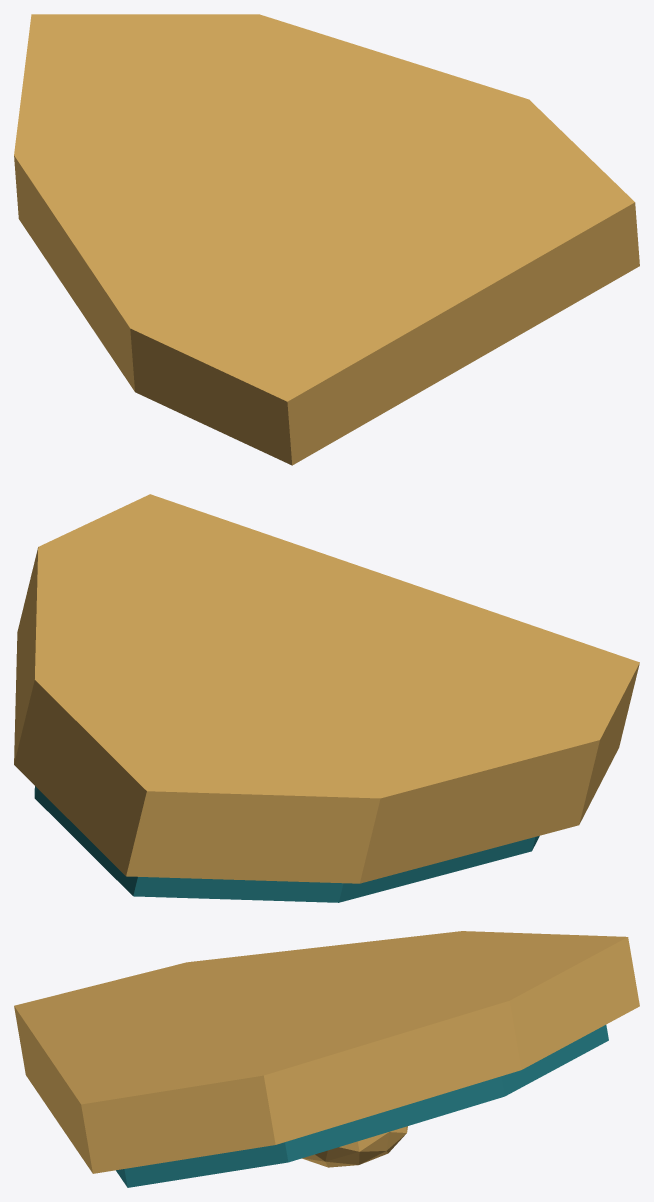
The model's file is SM_OathShield.fbx.
The picture shows the model from 3 angles, top to bottom: view 1: azimuth 30°, elevation 25°; view 2: azimuth 150°, elevation 25°; view 3: azimuth 270°, elevation 25°; orthographic projection. The views are drawn at different scales.
Visible parts, largest first — view 1: SM_OathShield; view 2: SM_OathShield; view 3: SM_OathShield.
Boxes of the visible parts, x1,y1,x2,y2 form: SM_OathShield: (14,14,639,465); SM_OathShield: (14,494,639,902); SM_OathShield: (14,931,639,1187).
Bounding box in the file's own units: 0.7243 × 0.9513 × 0.3314.
